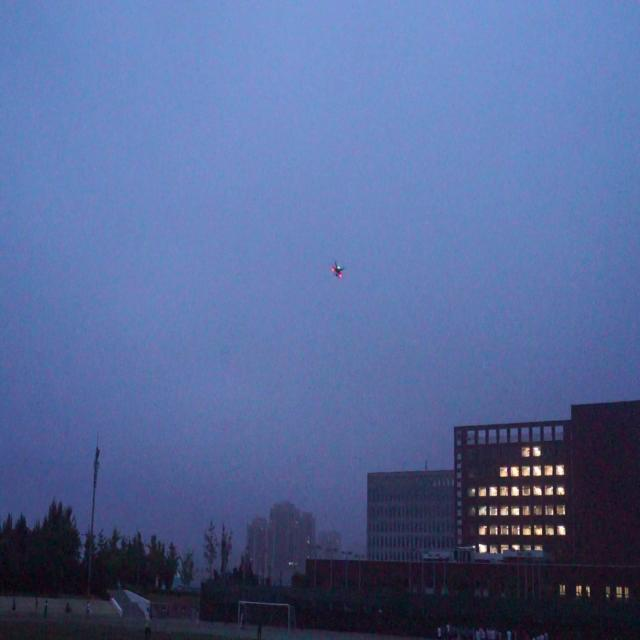drone: (331, 256, 346, 284)
